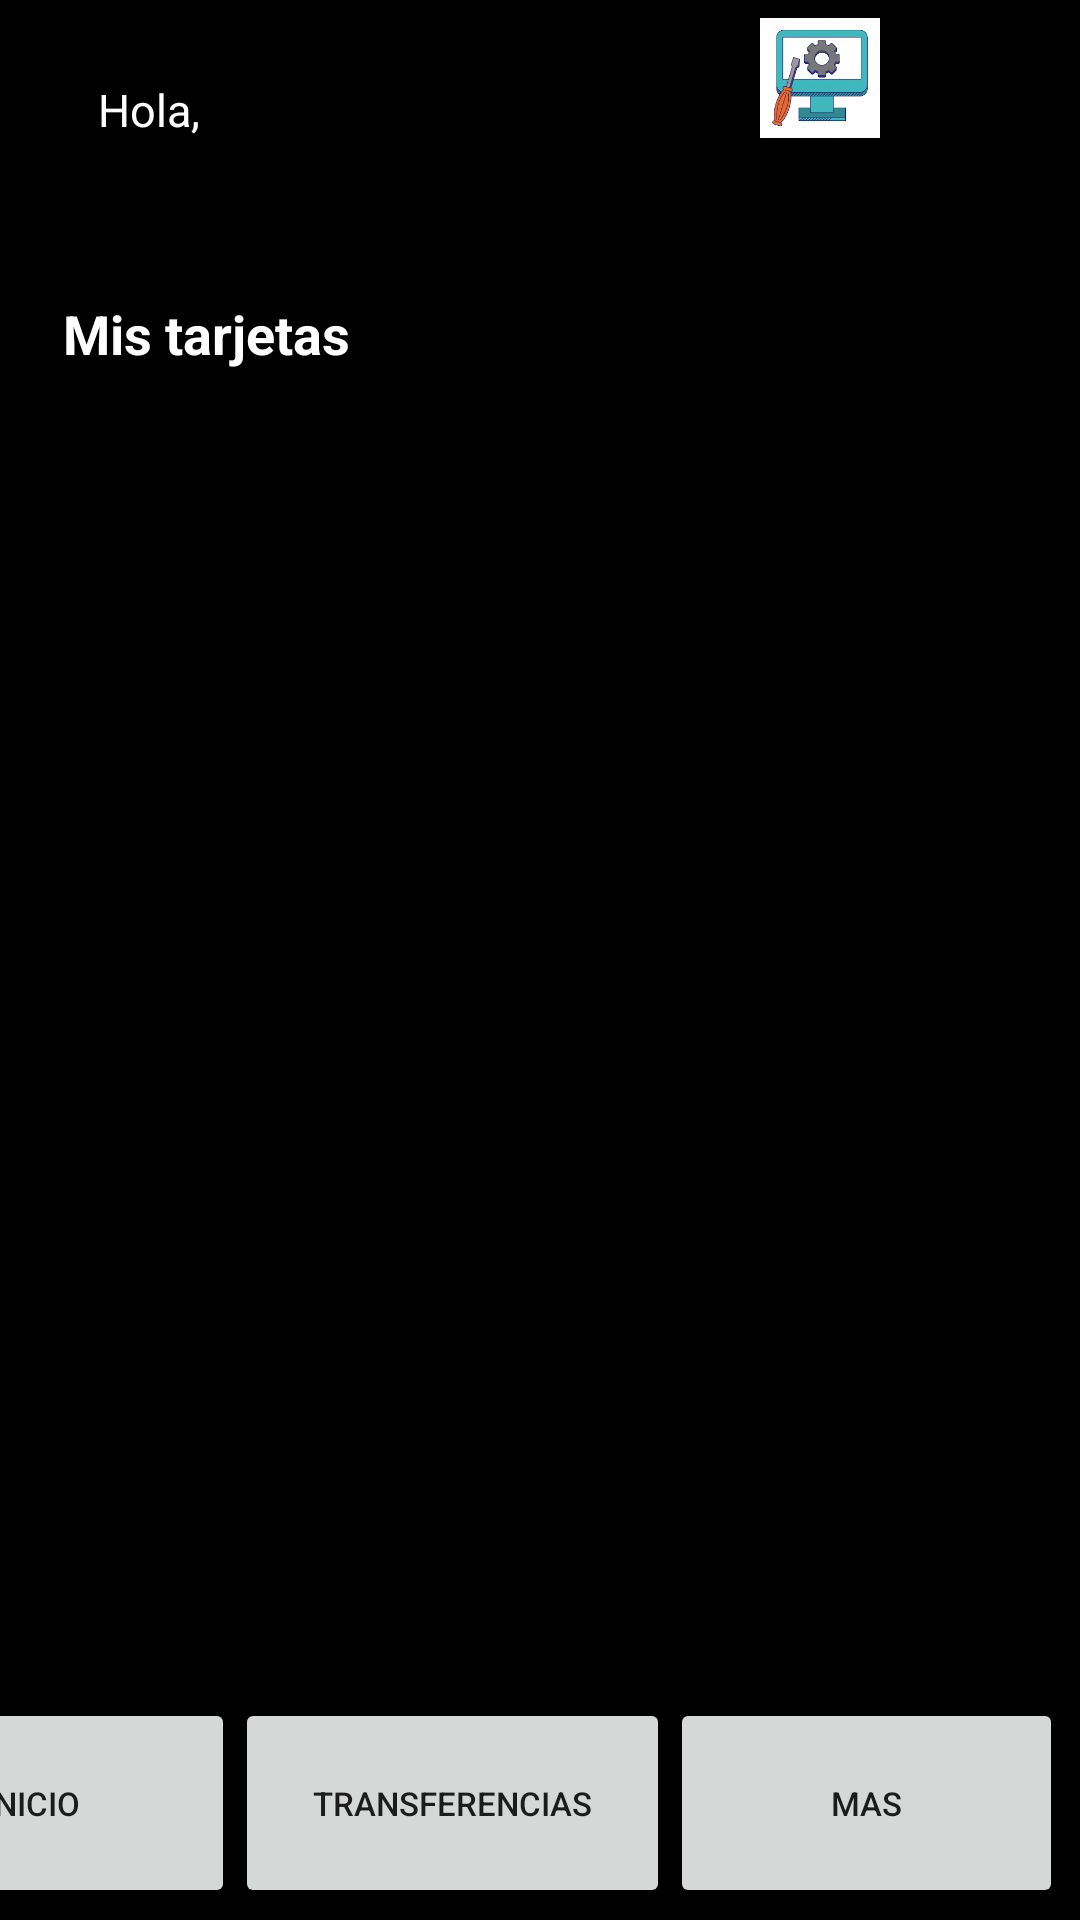

Named icons in this screenshot (1080 x 1920) and their centers, (x,y):
soporte: (820,78)
